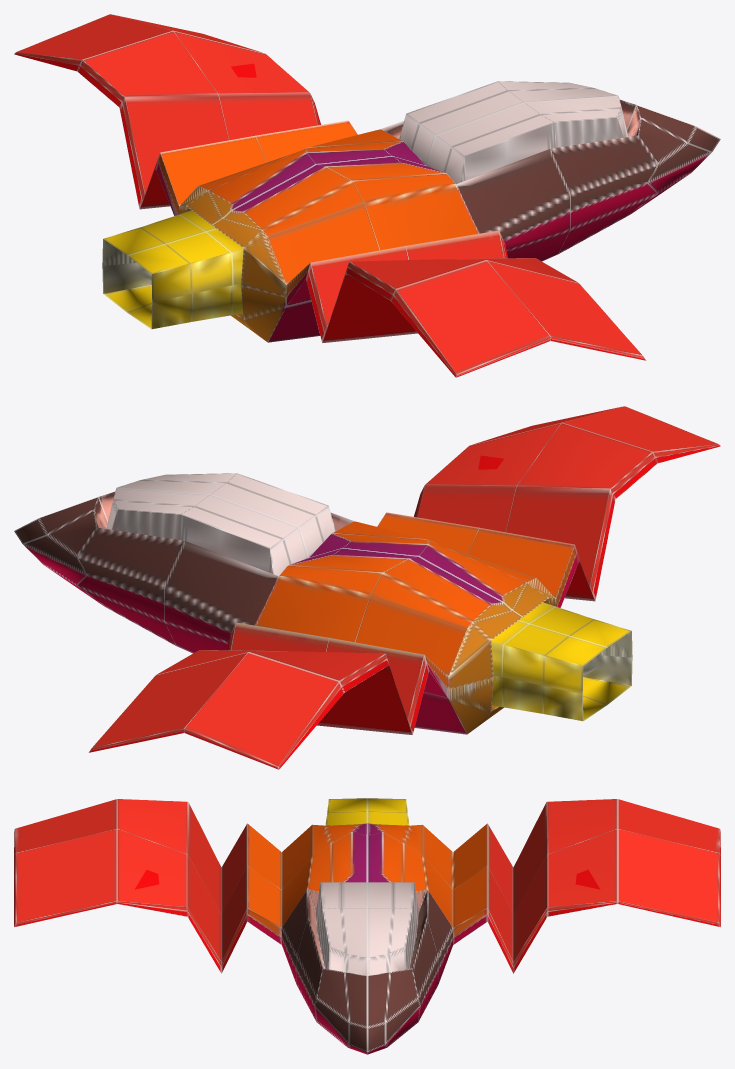
Rendered from enemy.obj.
3 views of the same model, one above another, from view 1: azimuth 30°, elevation 25°; view 2: azimuth 150°, elevation 25°; view 3: azimuth 270°, elevation 25° (orthographic). The views are drawn at different scales.
Parts seen in each view (by area): view 1: pCube1; view 2: pCube1; view 3: pCube1.
Part boxes in pixels (x1=…): pCube1: x1=14, y1=14, x2=720, y2=377; pCube1: x1=14, y1=406, x2=720, y2=769; pCube1: x1=14, y1=798, x2=720, y2=1054.
Bounding box in the file's own units: 6.61 × 1.7 × 8.54.
Materials: 1 (1 with a texture image).
